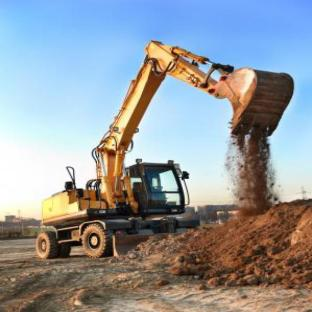ExcavationMachinery: (54, 46, 266, 268)
